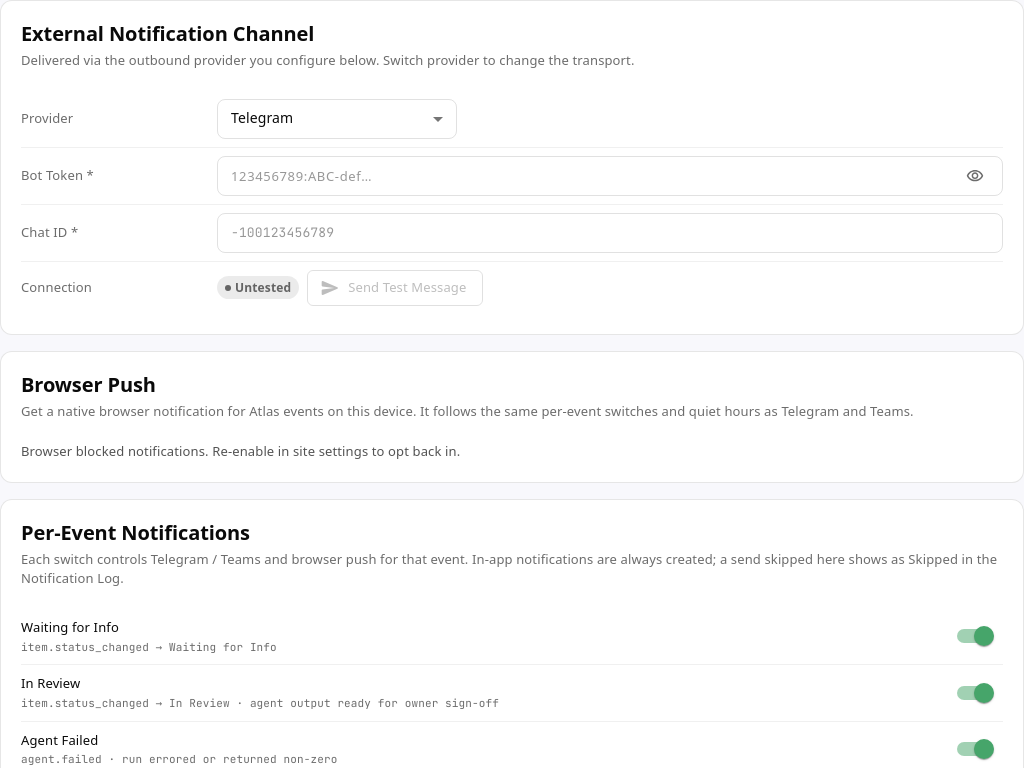
NotificationsTab › a save coming back does not wipe a field still being typed
Type "new-token" into the password field with placeholder "123456789:ABC-def…". click: (585, 176)
box: [217, 156, 953, 196]
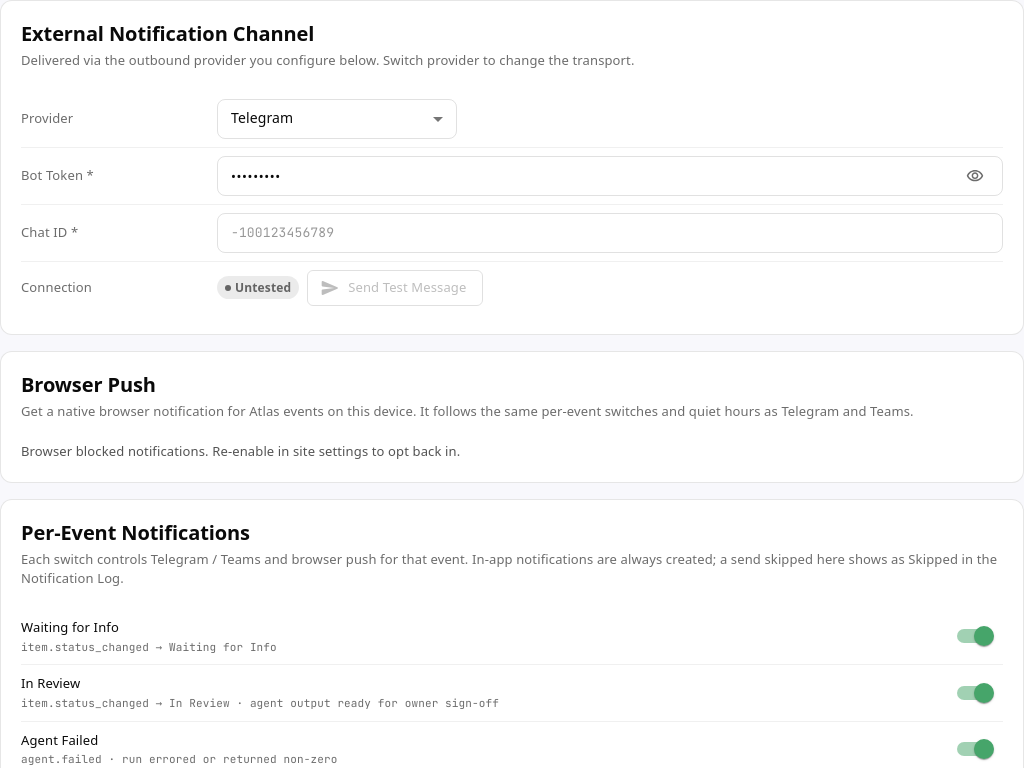
Type "42" into the field with placeholder "-100123456789". click: (610, 232)
box: [217, 212, 1003, 252]
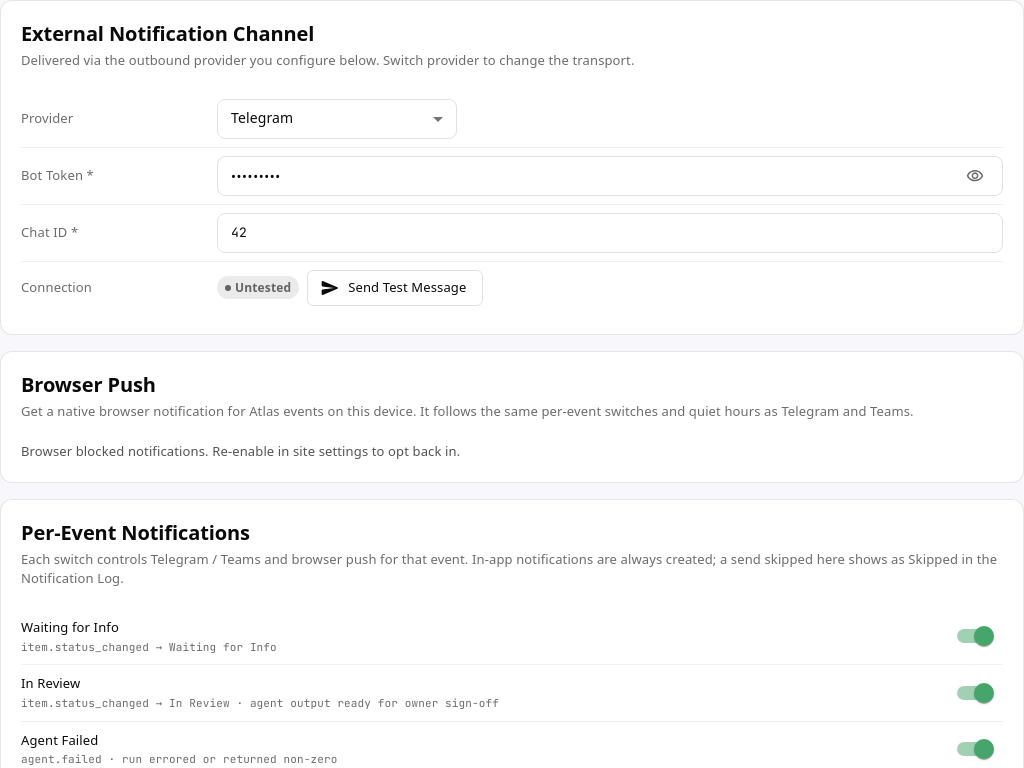
Leave the password field with placeholder "123456789:ABC-def…", box [217, 156, 953, 196]
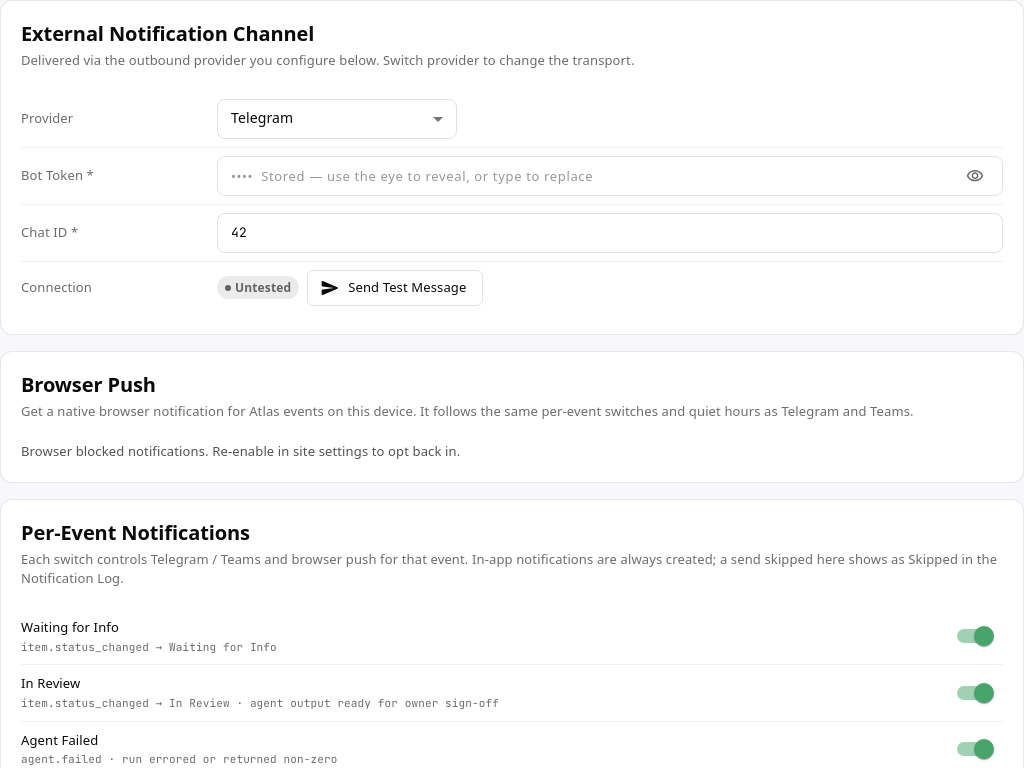
Check: the password field with placeholder "•••• Stored — use the eye to reveal, or type to replace" is shown, box [217, 156, 953, 196]
